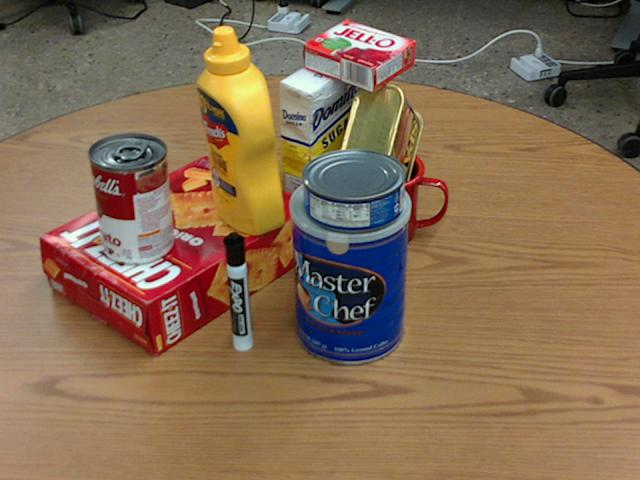cracker_box: (42, 159, 314, 356)
gelatin_box: (301, 20, 414, 91)
large_marker: (225, 232, 253, 351)
master_chef_can: (287, 169, 408, 362)
mug: (338, 144, 450, 249)
mustard_bottle: (195, 26, 284, 234)
potted_meat_can: (338, 82, 421, 201)
sugar_box: (279, 51, 361, 238)
tomato_soup_can: (88, 133, 173, 264)
tuna_fish_can: (300, 147, 405, 230)
